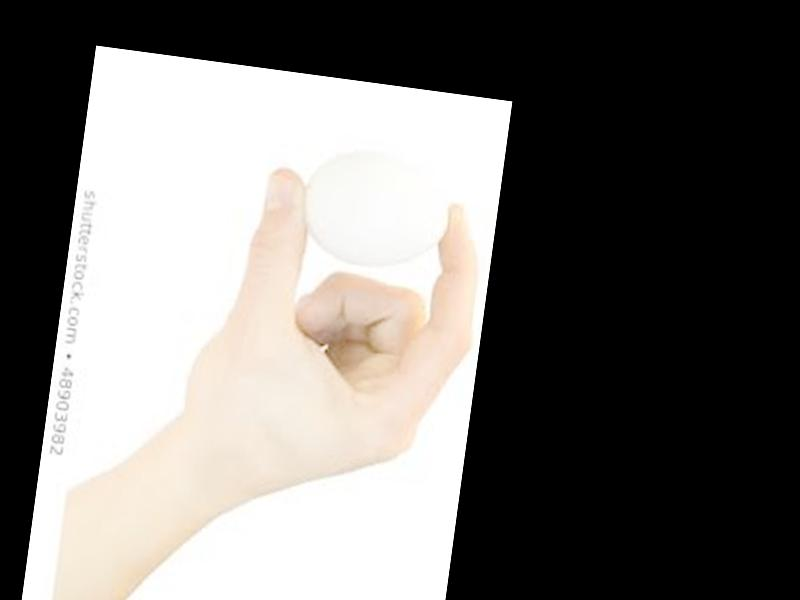Eggs: (295, 146, 454, 276)
